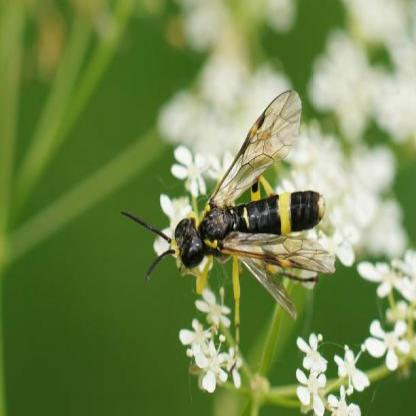sawfly: (118, 86, 336, 329)
